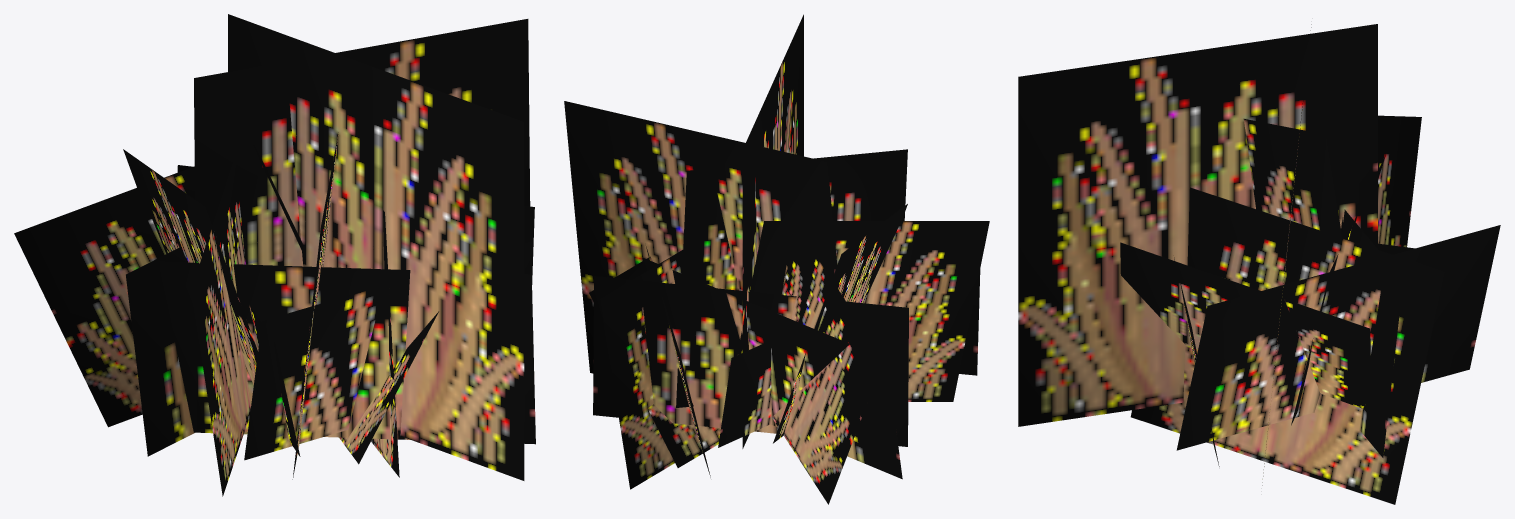
Rendered from P_Weed03.obj.
3 views of the same model, side by side, from view 1: azimuth 30°, elevation 25°; view 2: azimuth 150°, elevation 25°; view 3: azimuth 270°, elevation 25° (orthographic). The views are drawn at different scales.
Bounding box in the file's own units: 1.97 × 1.81 × 1.88.
